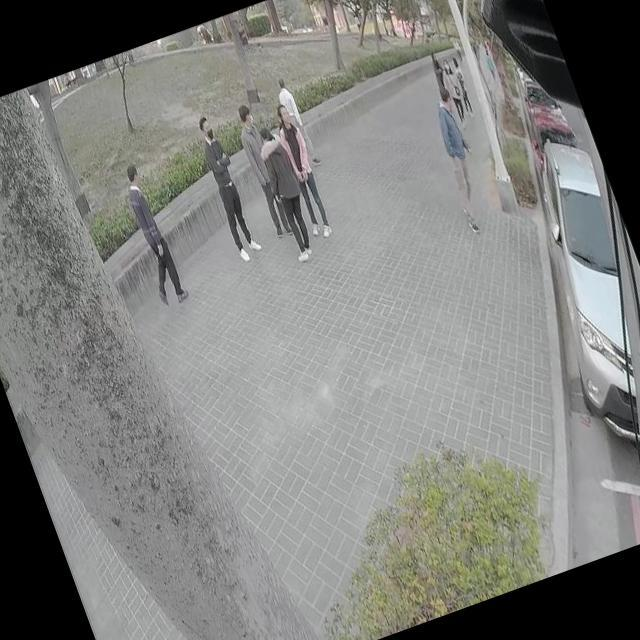person: (108, 156, 194, 315), (420, 86, 498, 234), (190, 112, 264, 264), (252, 122, 324, 263), (268, 100, 337, 238), (230, 105, 294, 241), (266, 70, 324, 175), (438, 56, 473, 130), (449, 55, 477, 115), (429, 56, 448, 87)
